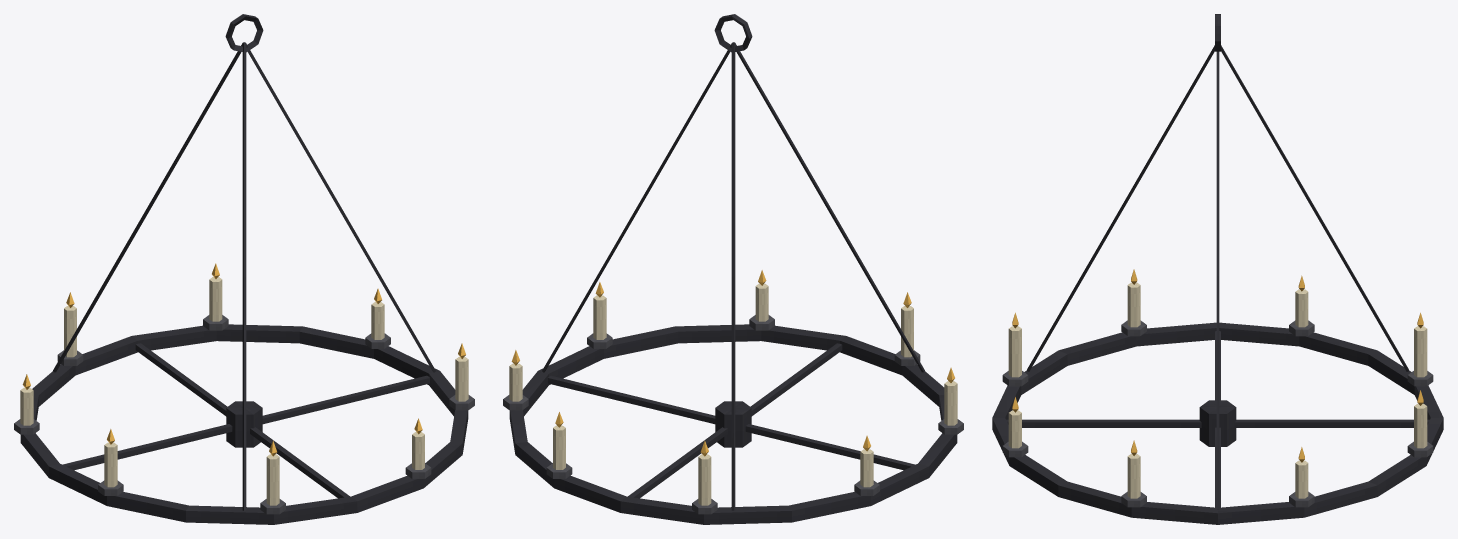
File: chandelier-ring.glb
The picture shows the model from 3 angles, left to right: view 1: azimuth 30°, elevation 25°; view 2: azimuth 150°, elevation 25°; view 3: azimuth 270°, elevation 25°; orthographic projection.
Parts seen in each view (by area): view 1: chandelier; view 2: chandelier; view 3: chandelier.
Part boxes in pixels (box(x1,y1,x2,y2)): chandelier: box(14, 14, 474, 524); chandelier: box(503, 14, 963, 524); chandelier: box(992, 14, 1443, 524).
Size of the model in its own units: 1.24 by 1.28 by 1.24.
Materials: 1 (1 with a texture image).
